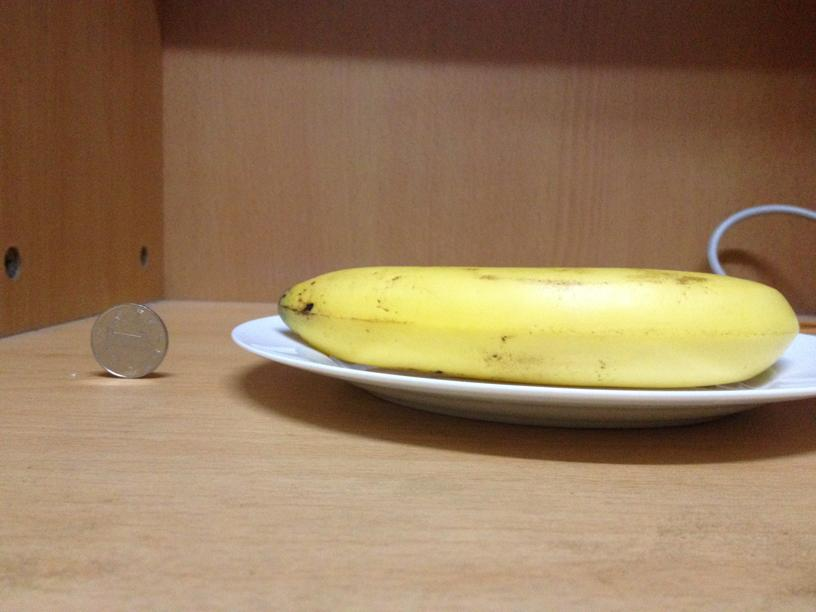banana: (277, 264, 800, 387)
coin: (92, 299, 170, 378)
